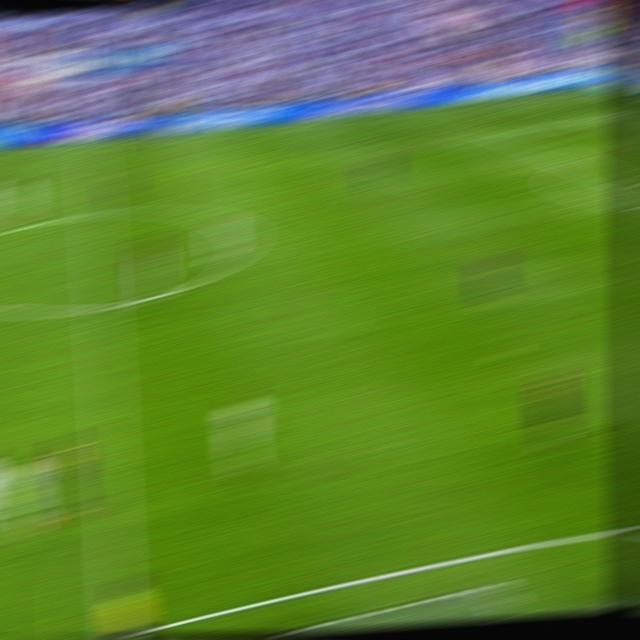corner: (580, 86, 603, 92)
halfcircle_bottom: (87, 295, 117, 318)
midline_top_intersection: (81, 142, 104, 150)
top_arc_area_intersection: (558, 154, 583, 165)
